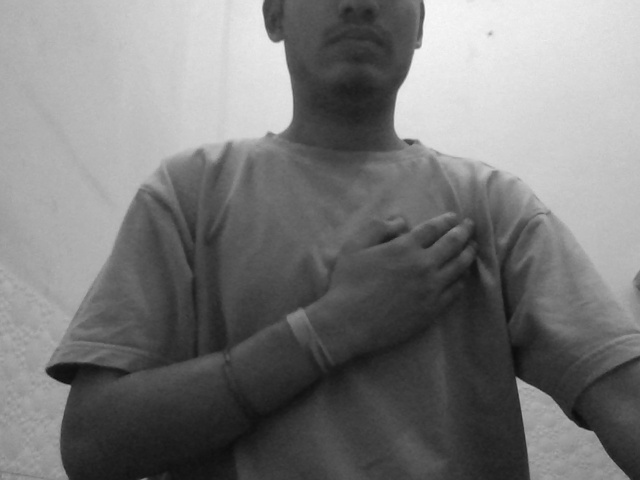Sorry: (281, 199, 501, 360)
